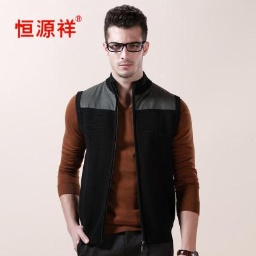face: (101, 5, 152, 78)
